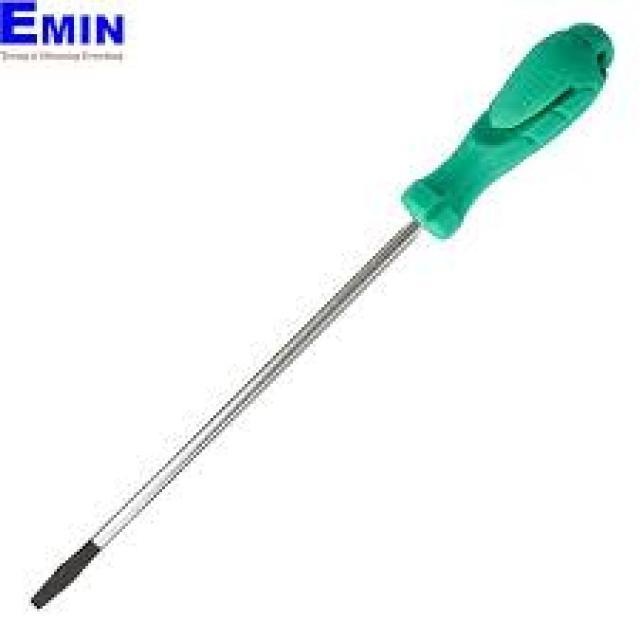screwdriver: (25, 22, 618, 612)
